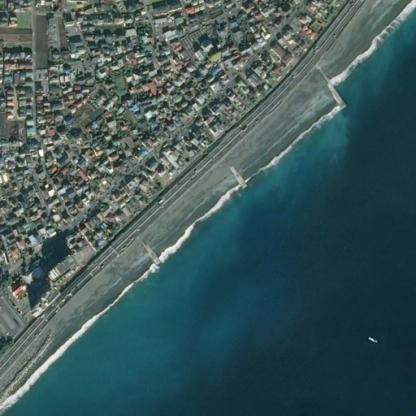ship: (363, 332, 381, 346)
